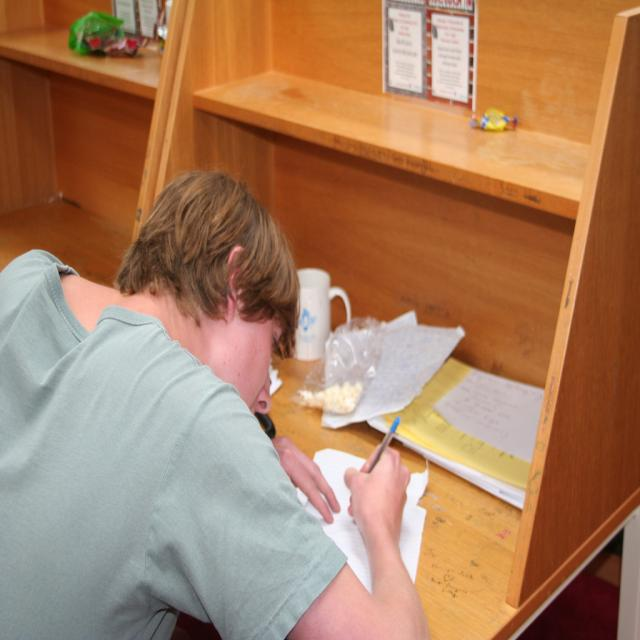desk: (150, 0, 640, 639)
person: (0, 167, 436, 630)
